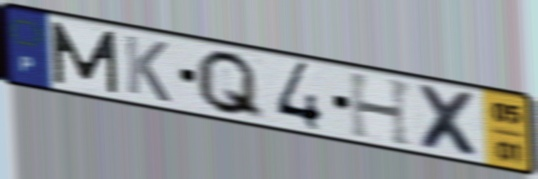4: (271, 58, 328, 135)
H: (345, 71, 417, 150)
K: (122, 32, 174, 106)
M: (48, 18, 122, 96)
Q: (193, 48, 267, 123)
X: (414, 80, 488, 162)
